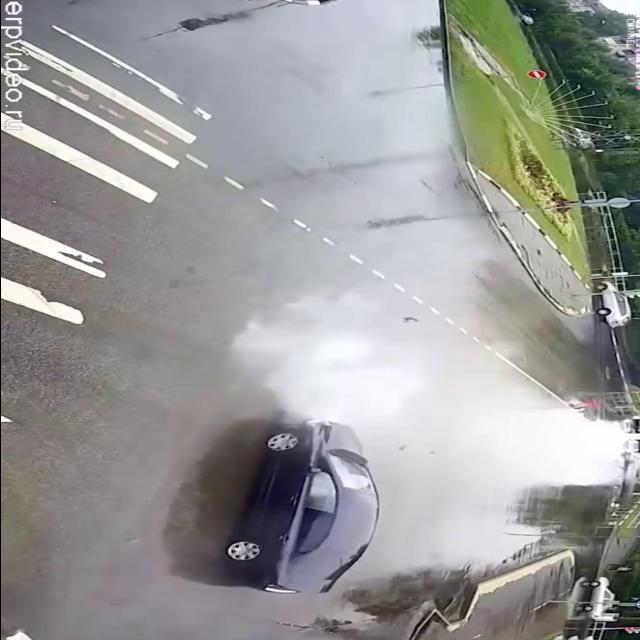accident: (211, 347, 429, 599)
